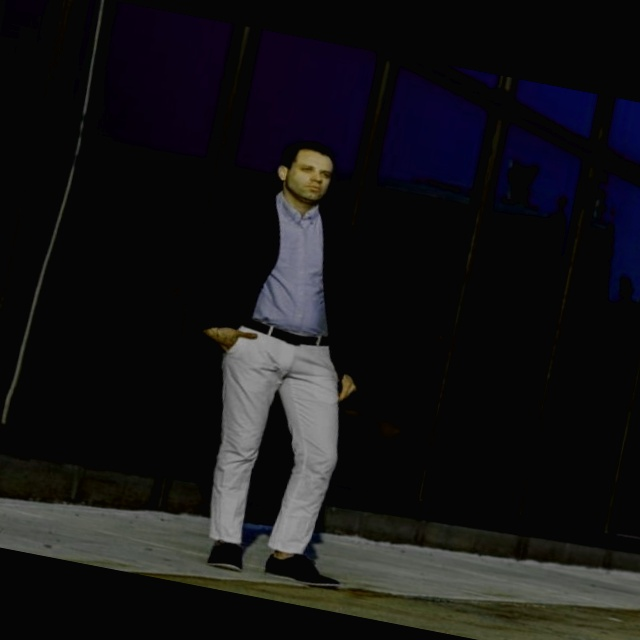Sin_Casco_Mascarrilla: (271, 134, 342, 208)
Sin_Chaleco: (202, 189, 369, 350)
